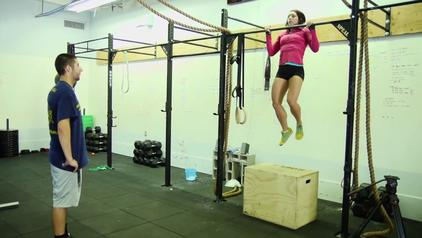stay: (48, 97, 86, 237)
walk: (262, 4, 320, 127)
